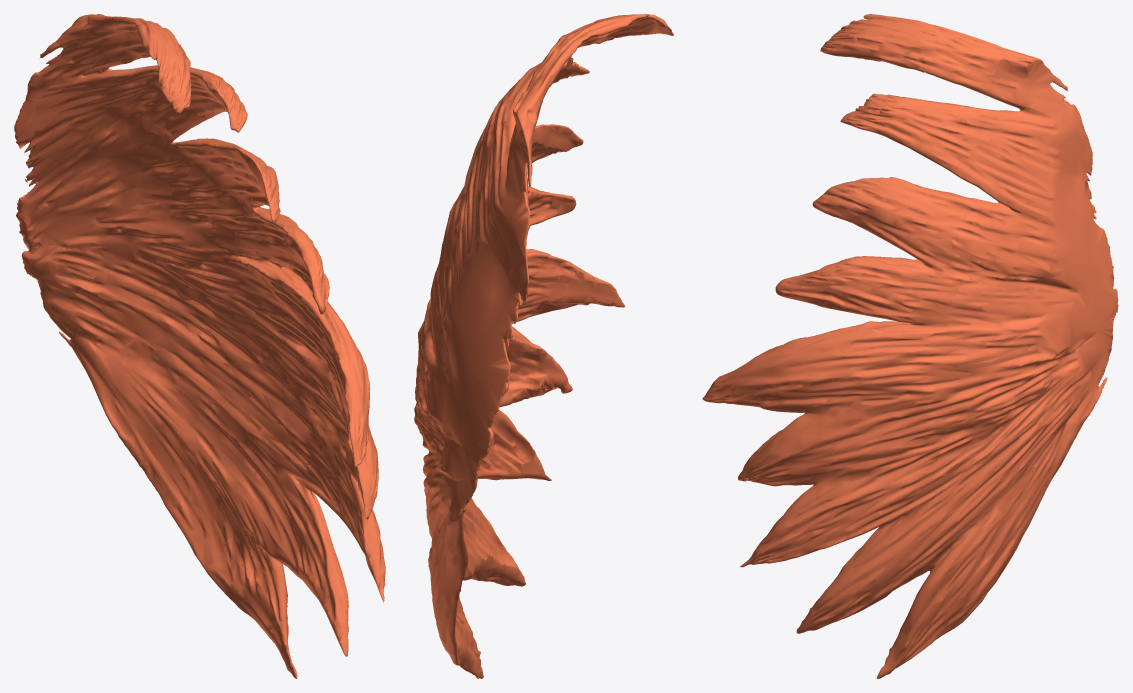
File: Serratus_anterior_left.glb
The picture shows the model from 3 angles, left to right: view 1: azimuth 30°, elevation 25°; view 2: azimuth 150°, elevation 25°; view 3: azimuth 270°, elevation 25°; orthographic projection. The views are drawn at different scales.
Parts seen in each view (by area): view 1: Serratus_anterior_muscle.l_Generated_Mesh_From_X3D.222; view 2: Serratus_anterior_muscle.l_Generated_Mesh_From_X3D.222; view 3: Serratus_anterior_muscle.l_Generated_Mesh_From_X3D.222.
Part boxes in pixels (x1,y1,x2,y2): Serratus_anterior_muscle.l_Generated_Mesh_From_X3D.222: (14, 14, 385, 678); Serratus_anterior_muscle.l_Generated_Mesh_From_X3D.222: (414, 14, 673, 678); Serratus_anterior_muscle.l_Generated_Mesh_From_X3D.222: (702, 14, 1118, 678).
Size of the model in its own units: 0.0864 by 0.2747 by 0.1721.
